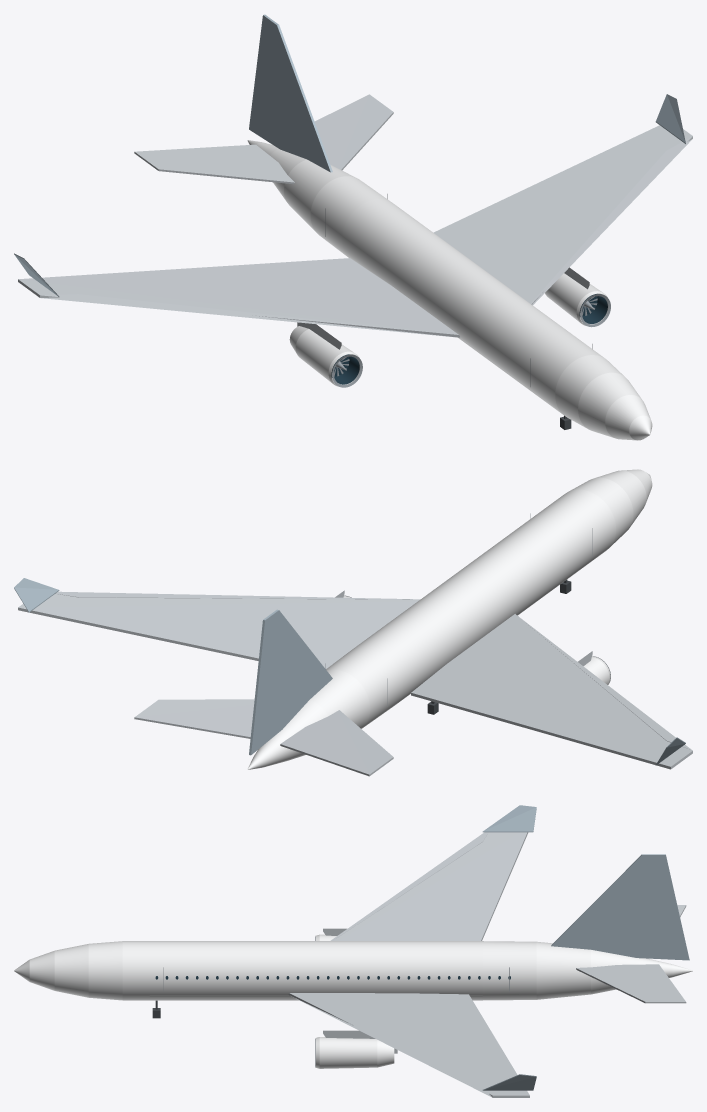
The model's file is a330-neutral-v3.gltf.
3 renders of one model, top to bottom at view 1: azimuth 30°, elevation 25°; view 2: azimuth 150°, elevation 25°; view 3: azimuth 270°, elevation 25°, orthographic. The views are drawn at different scales.
Visible parts, largest first — view 1: object 1; view 2: object 1; view 3: object 1.
Part boxes in pixels (x1=…): object 1: x1=14, y1=14, x2=692, y2=440; object 1: x1=14, y1=469, x2=692, y2=776; object 1: x1=14, y1=805, x2=692, y2=1097.
Size of the model in its own units: 60 by 16.88 by 64.
